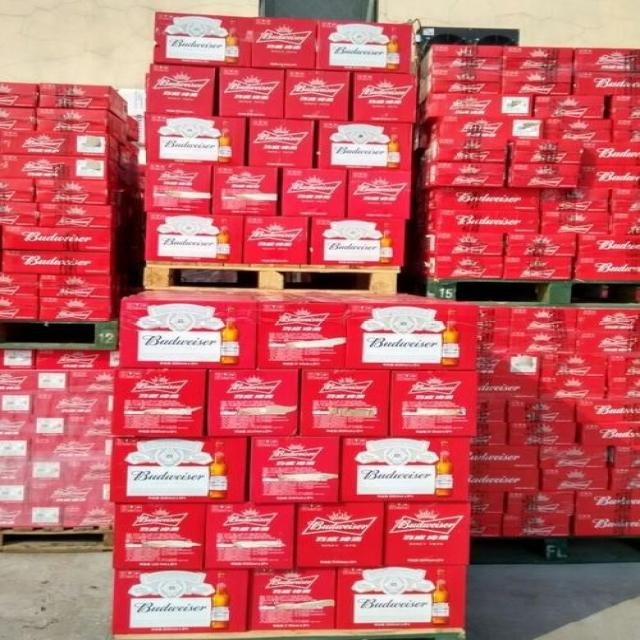box: (321, 292, 477, 372), (118, 291, 257, 370), (110, 436, 250, 505), (111, 569, 247, 633), (340, 437, 471, 501), (334, 567, 467, 629), (250, 292, 347, 369), (111, 367, 209, 438), (206, 368, 302, 437), (111, 503, 207, 569), (300, 368, 390, 437), (294, 500, 385, 568), (250, 436, 340, 504), (390, 370, 480, 438), (383, 500, 470, 568), (205, 504, 294, 569), (247, 568, 338, 631), (152, 12, 253, 68), (145, 112, 247, 166), (142, 211, 244, 264), (315, 20, 412, 75), (317, 120, 413, 171), (310, 216, 404, 264), (0, 129, 120, 162), (419, 94, 535, 127), (283, 68, 352, 122), (146, 64, 219, 115), (216, 66, 284, 119), (424, 116, 544, 146), (0, 153, 119, 183), (146, 163, 215, 213), (248, 118, 315, 169), (37, 84, 128, 121), (251, 17, 317, 68), (211, 166, 278, 216), (243, 215, 311, 264), (36, 108, 125, 145), (352, 72, 416, 123), (346, 171, 412, 219), (282, 168, 346, 217), (1, 226, 116, 252), (419, 210, 543, 234), (420, 188, 541, 211), (3, 250, 116, 274), (32, 179, 120, 208), (420, 162, 506, 191), (422, 139, 511, 167), (421, 249, 503, 279), (38, 202, 123, 230), (419, 57, 502, 85), (32, 393, 114, 419), (38, 294, 119, 320), (420, 232, 504, 257), (37, 273, 119, 298), (500, 57, 575, 84), (27, 482, 111, 506), (417, 81, 503, 104), (507, 141, 585, 166), (503, 233, 579, 258), (29, 438, 111, 461), (506, 165, 581, 190), (536, 443, 608, 469), (475, 350, 540, 378), (540, 352, 607, 379), (571, 490, 640, 516), (470, 444, 538, 470), (541, 189, 611, 214), (419, 45, 502, 66), (0, 368, 69, 393), (539, 376, 608, 401), (33, 350, 119, 370), (506, 491, 576, 515), (503, 255, 573, 279), (534, 95, 604, 119), (570, 48, 640, 72), (541, 211, 613, 234), (470, 469, 541, 492), (506, 422, 576, 445), (509, 307, 576, 331), (573, 258, 640, 282), (573, 72, 640, 96), (576, 234, 640, 259), (508, 401, 577, 424), (502, 514, 571, 537), (0, 502, 63, 527), (477, 377, 540, 402), (575, 307, 640, 331), (576, 399, 640, 423), (577, 165, 640, 189), (580, 142, 640, 167), (508, 330, 576, 352), (544, 120, 612, 142), (575, 422, 640, 445), (0, 461, 64, 484), (571, 516, 640, 537), (541, 469, 609, 490), (576, 330, 640, 352), (0, 417, 67, 438), (67, 369, 116, 395), (61, 504, 114, 526), (61, 461, 111, 484), (65, 417, 111, 440), (0, 201, 38, 227), (0, 295, 38, 320), (502, 83, 575, 96), (500, 47, 572, 60), (0, 83, 37, 107), (476, 306, 511, 331), (605, 374, 640, 399), (0, 106, 36, 130), (470, 492, 507, 515), (0, 273, 38, 295), (0, 393, 32, 419), (605, 352, 640, 375), (0, 178, 33, 202), (472, 424, 509, 445), (0, 436, 31, 461), (470, 514, 504, 536), (477, 401, 509, 424), (608, 445, 640, 468), (611, 188, 640, 213), (608, 468, 640, 490), (611, 96, 640, 120), (476, 330, 509, 351), (0, 349, 33, 369), (611, 213, 640, 235), (611, 120, 640, 142), (0, 482, 28, 503), (119, 143, 138, 172), (119, 164, 138, 188), (125, 115, 140, 141), (125, 136, 140, 156)
